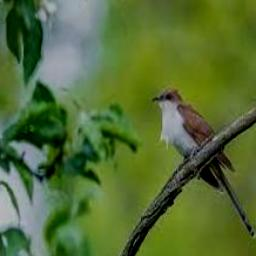Cuckoo: (151, 88, 256, 238)
